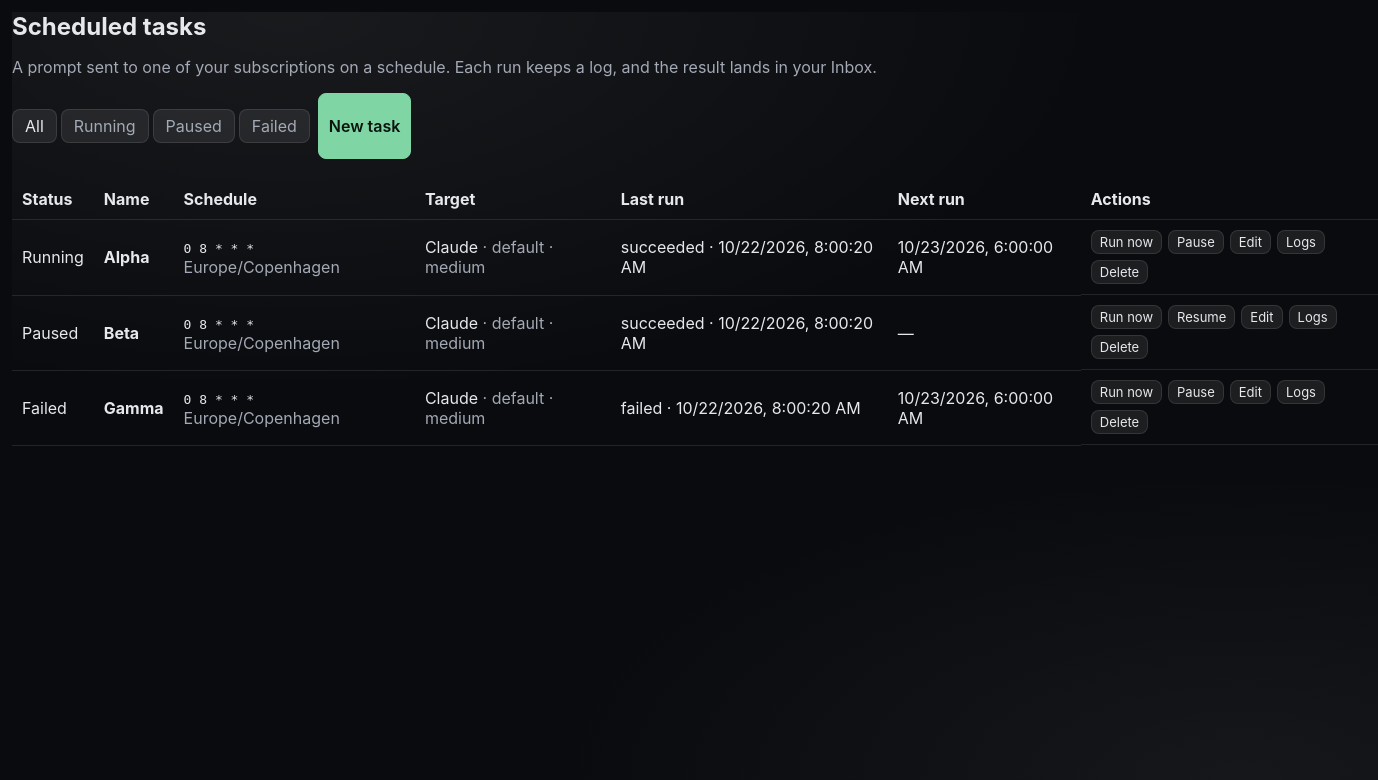
Test: Scheduled tasks › filters by Running, Paused and Failed
Check: the text "Alpha" is shown, box [104,247,149,267]
What coordinates should you click on to do the following:
click the tab "Running"
I would click on:
 (105, 126)
Its box is [61,109,149,143].
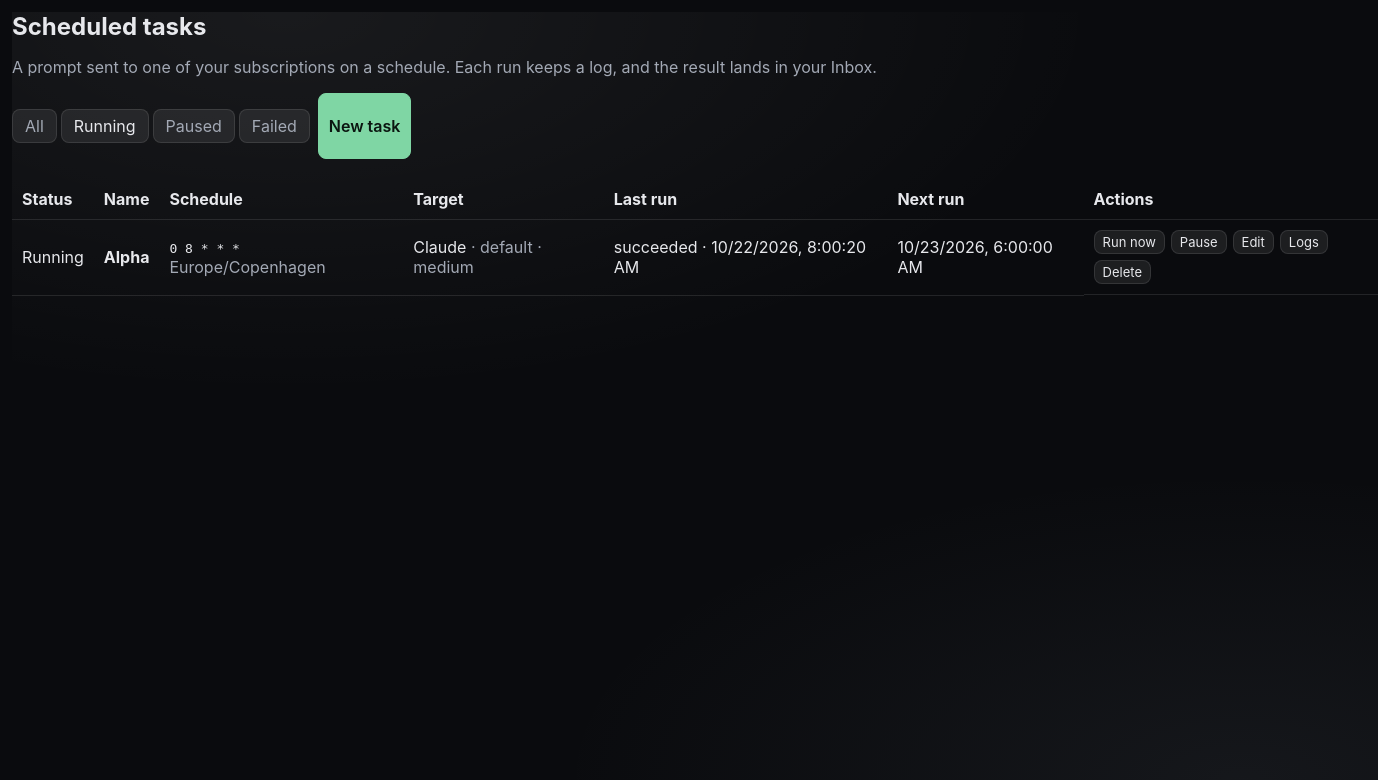
Check: the text "Alpha" is shown, box [104,247,149,267]
Check: the text "Beta" is gone
What coordinates should you click on to do the following:
click the tab "Paused"
I would click on:
 (194, 126)
Its box is [153,109,235,143].
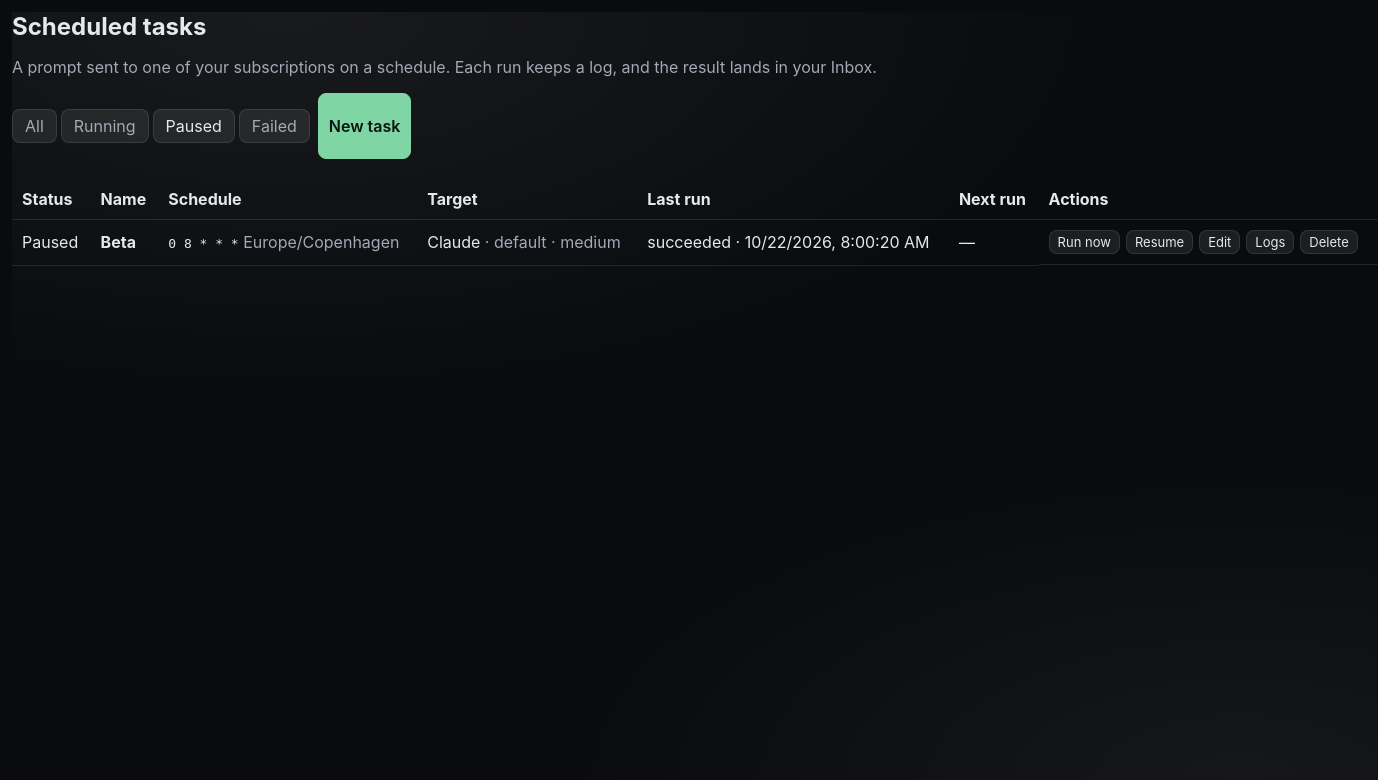
Check: the text "Beta" is shown, box [101,232,136,252]
Check: the text "Alpha" is gone
What coordinates should you click on to do the following:
click the tab "Failed"
I would click on:
 (274, 126)
Its box is [239,109,310,143].
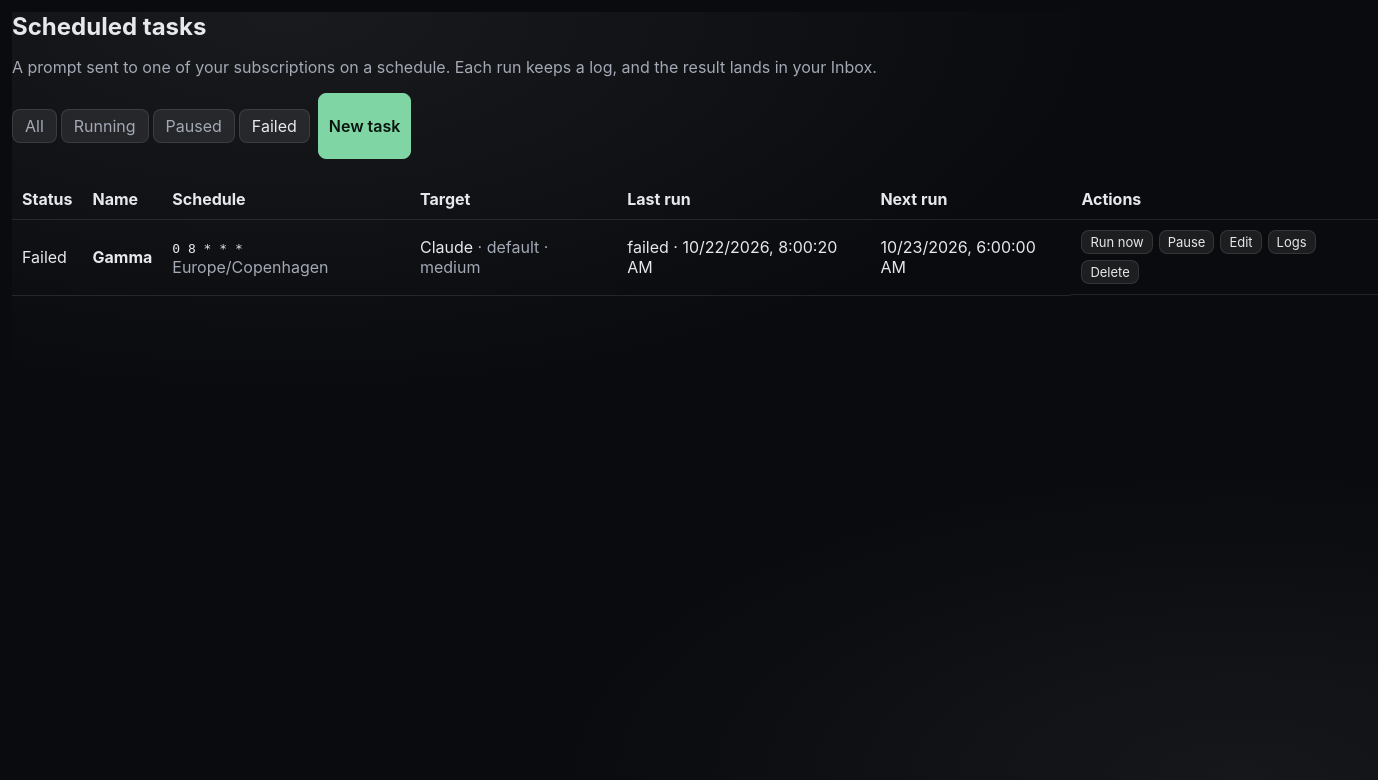
Check: the text "Gamma" is shown, box [92,247,152,267]
Check: the text "Failed" is shown, box [12,220,82,295]
